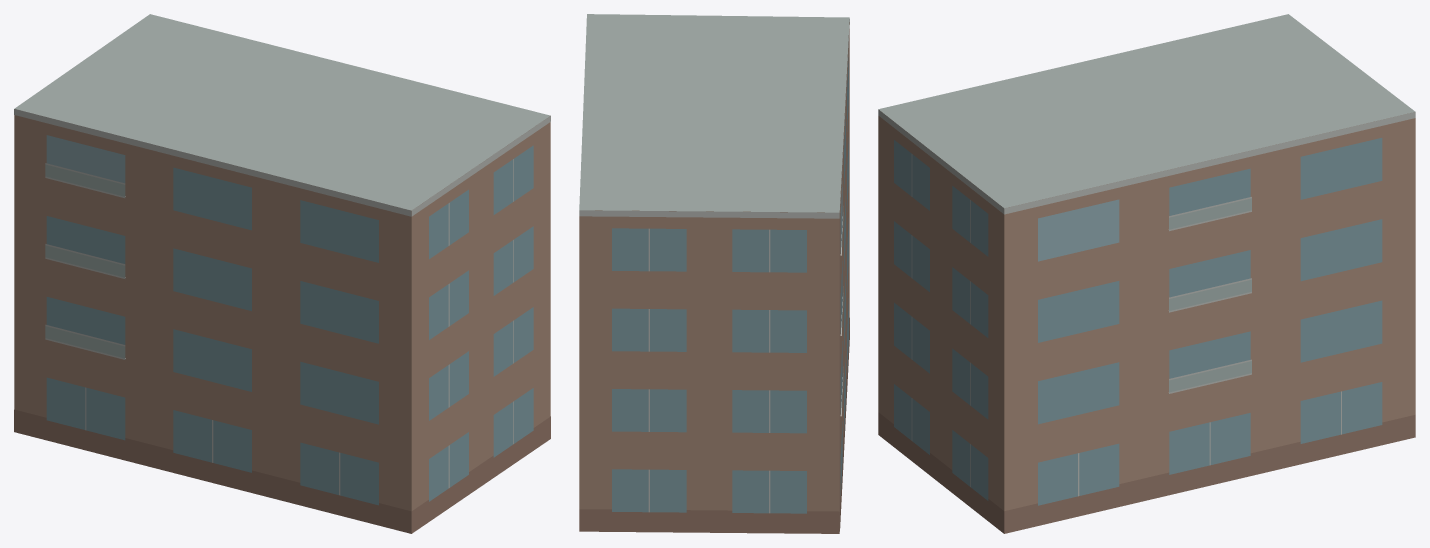
Rendered from survey-upis-32666825.glb.
3 views of the same model, side by side, from view 1: azimuth 30°, elevation 25°; view 2: azimuth 150°, elevation 25°; view 3: azimuth 270°, elevation 25° (orthographic).
Parts seen in each view (by area): view 1: survey-upis-32666825.tmp; view 2: survey-upis-32666825.tmp; view 3: survey-upis-32666825.tmp.
Boxes of the visible parts, <box> form: survey-upis-32666825.tmp: <box>14,14,550,533</box>; survey-upis-32666825.tmp: <box>579,14,849,533</box>; survey-upis-32666825.tmp: <box>878,14,1415,533</box>.
Bounding box in the file's own units: 16.39 × 12.8 × 19.16.
